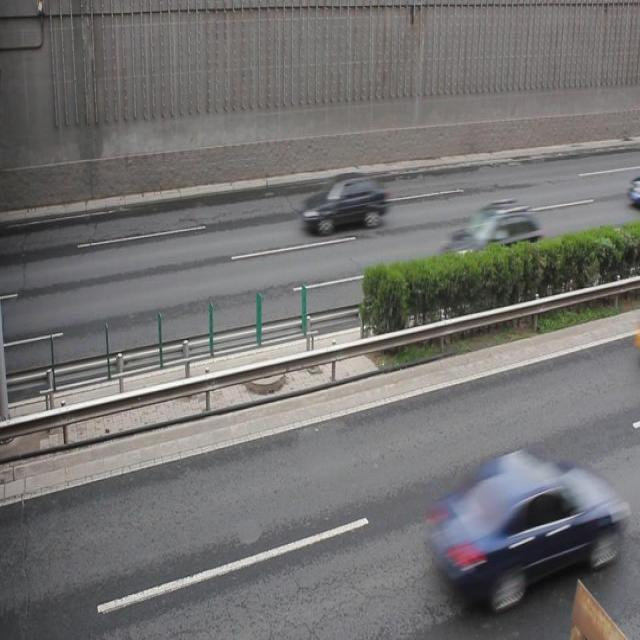car: (424, 446, 612, 611), (440, 203, 542, 269), (304, 172, 388, 232)
